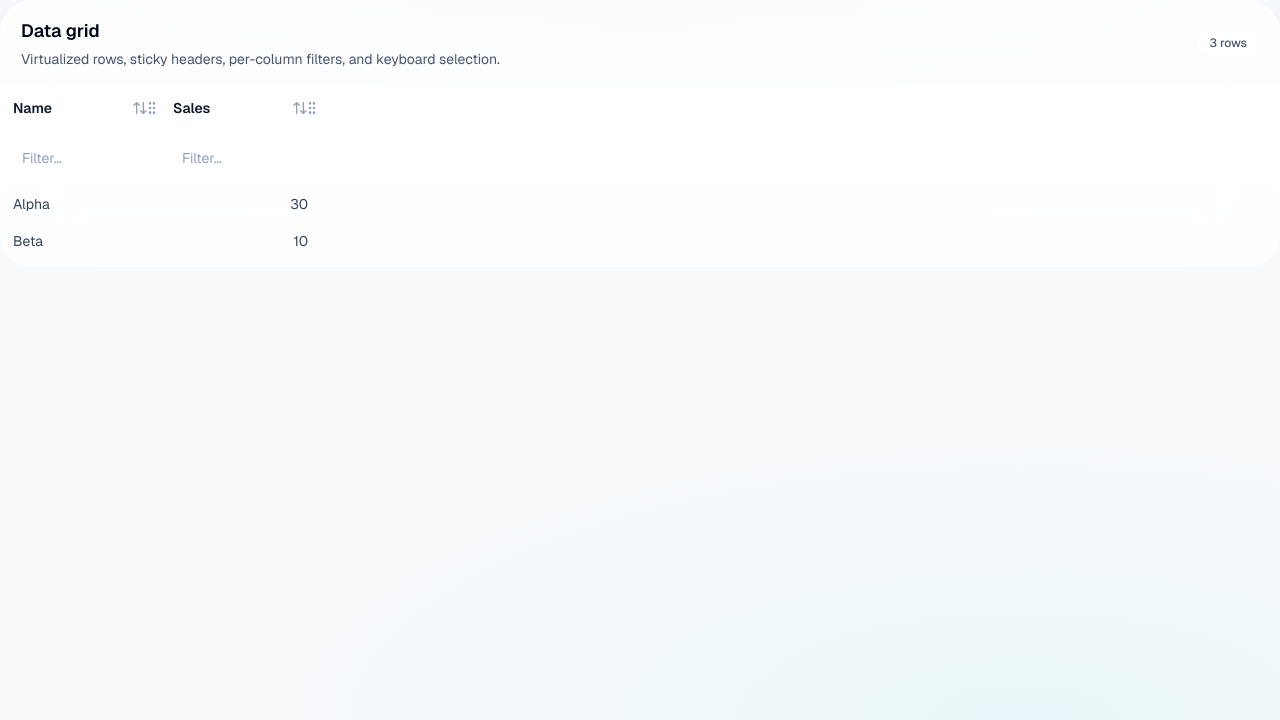
Test case: DataGrid › sorts rows when clicking a column header
The width and height of the screenshot is (1280, 720).
Step 1. Click the button "Sales" → (240, 108), box [173,98,308,118]
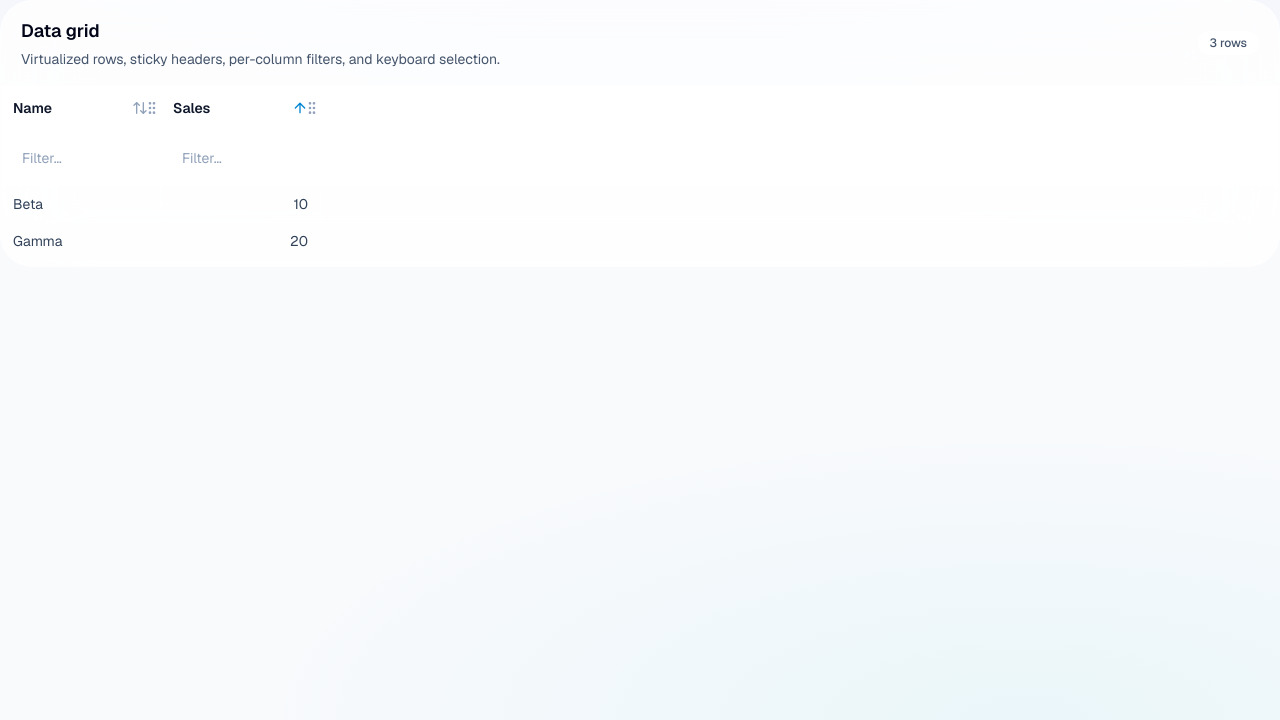
Expected: the row "Beta 10" is shown, [1,186,1279,223]
